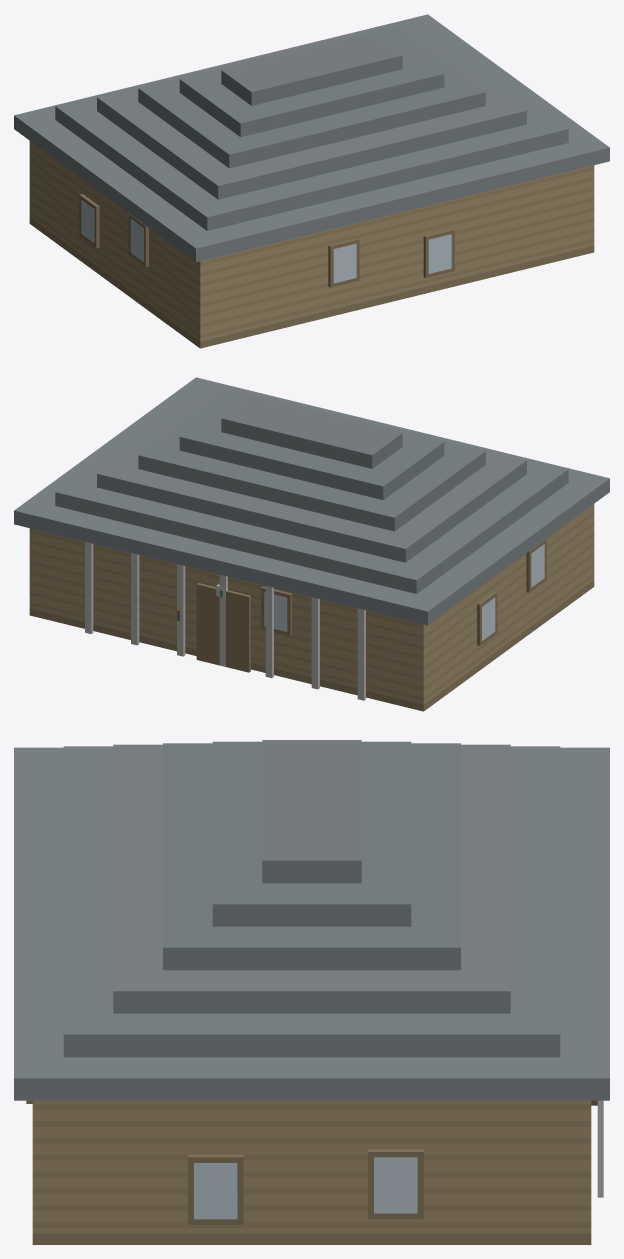
The model's file is gran_archivo_04.glb.
3 renders of one model, top to bottom at view 1: azimuth 30°, elevation 25°; view 2: azimuth 150°, elevation 25°; view 3: azimuth 270°, elevation 25°, orthographic. The views are drawn at different scales.
Visible parts, largest first — view 1: gran_archivo_04; view 2: gran_archivo_04; view 3: gran_archivo_04.
Part boxes in pixels (box(x1,y1,x2,y2)): gran_archivo_04: box(14, 14, 609, 348); gran_archivo_04: box(14, 377, 609, 711); gran_archivo_04: box(14, 740, 609, 1244).
Size of the model in its own units: 12.6 by 5.1 by 9.6.
